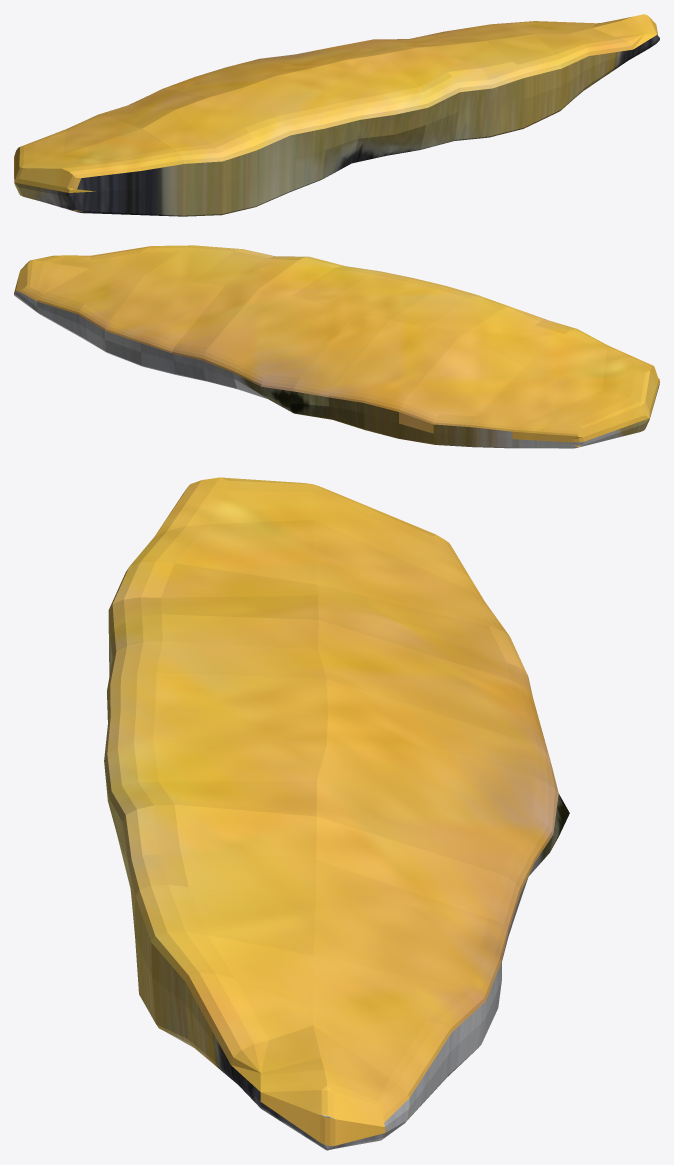
File: _erringfish.fbx
The picture shows the model from 3 angles, top to bottom: view 1: azimuth 30°, elevation 25°; view 2: azimuth 150°, elevation 25°; view 3: azimuth 270°, elevation 25°; orthographic projection. The views are drawn at different scales.
Parts seen in each view (by area): view 1: Cube.010; view 2: Cube.010; view 3: Cube.010.
Boxes of the visible parts, <box> form: Cube.010: <box>14,14,659,216</box>; Cube.010: <box>14,245,659,448</box>; Cube.010: <box>104,477,569,1150</box>.
Bounding box in the file's own units: 1240 × 149 × 399.
1 material, 1 textured.
